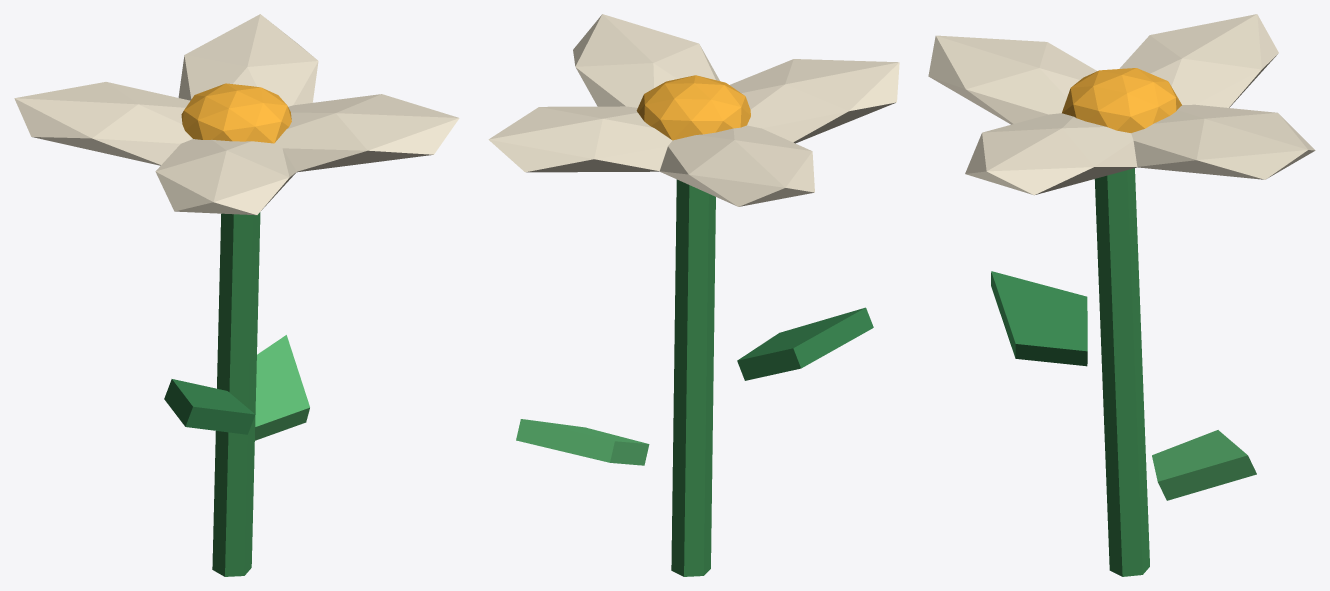
Rendered from MiniFlower_4Petal_White.glb.
The picture shows the model from 3 angles, left to right: view 1: azimuth 30°, elevation 25°; view 2: azimuth 150°, elevation 25°; view 3: azimuth 270°, elevation 25°; orthographic projection. The views are drawn at different scales.
Parts seen in each view (by area): view 1: MiniFlower_4Petal_White Stem, MiniFlower_4Petal_White Petal 2, MiniFlower_4Petal_White Petal 4, MiniFlower_4Petal_White Petal 3, MiniFlower_4Petal_White Petal 1, MiniFlower_4Petal_White Center, MiniFlower_4Petal_White Leaf 1, MiniFlower_4Petal_White Leaf -1; view 2: MiniFlower_4Petal_White Stem, MiniFlower_4Petal_White Petal 3, MiniFlower_4Petal_White Petal 1, MiniFlower_4Petal_White Petal 2, MiniFlower_4Petal_White Petal 4, MiniFlower_4Petal_White Center, MiniFlower_4Petal_White Leaf -1, MiniFlower_4Petal_White Leaf 1; view 3: MiniFlower_4Petal_White Stem, MiniFlower_4Petal_White Petal 1, MiniFlower_4Petal_White Petal 3, MiniFlower_4Petal_White Petal 4, MiniFlower_4Petal_White Petal 2, MiniFlower_4Petal_White Leaf -1, MiniFlower_4Petal_White Center, MiniFlower_4Petal_White Leaf 1.
Part boxes in pixels (x1,y1,x2,y2): MiniFlower_4Petal_White Stem: (212,212,260,576); MiniFlower_4Petal_White Petal 2: (14,82,192,165); MiniFlower_4Petal_White Petal 4: (274,94,459,172); MiniFlower_4Petal_White Petal 3: (155,139,296,215); MiniFlower_4Petal_White Petal 1: (178,14,318,106); MiniFlower_4Petal_White Center: (181,83,291,143); MiniFlower_4Petal_White Leaf 1: (255,335,309,440); MiniFlower_4Petal_White Leaf -1: (164,379,255,434); MiniFlower_4Petal_White Stem: (671,179,715,576); MiniFlower_4Petal_White Petal 3: (730,59,899,143); MiniFlower_4Petal_White Petal 1: (488,106,672,172); MiniFlower_4Petal_White Petal 2: (659,125,814,206); MiniFlower_4Petal_White Petal 4: (573,14,719,107); MiniFlower_4Petal_White Center: (636,75,750,140); MiniFlower_4Petal_White Leaf -1: (737,307,873,380); MiniFlower_4Petal_White Leaf 1: (516,419,649,465); MiniFlower_4Petal_White Stem: (1094,168,1149,576); MiniFlower_4Petal_White Petal 1: (1131,104,1315,179); MiniFlower_4Petal_White Petal 3: (928,35,1097,124); MiniFlower_4Petal_White Petal 4: (965,113,1137,195); MiniFlower_4Petal_White Petal 2: (1119,14,1278,107); MiniFlower_4Petal_White Leaf -1: (991,271,1087,366); MiniFlower_4Petal_White Center: (1062,68,1181,132); MiniFlower_4Petal_White Leaf 1: (1152,430,1256,500).
Bounding box in the file's own units: 0.3405 × 0.4802 × 0.3405.
